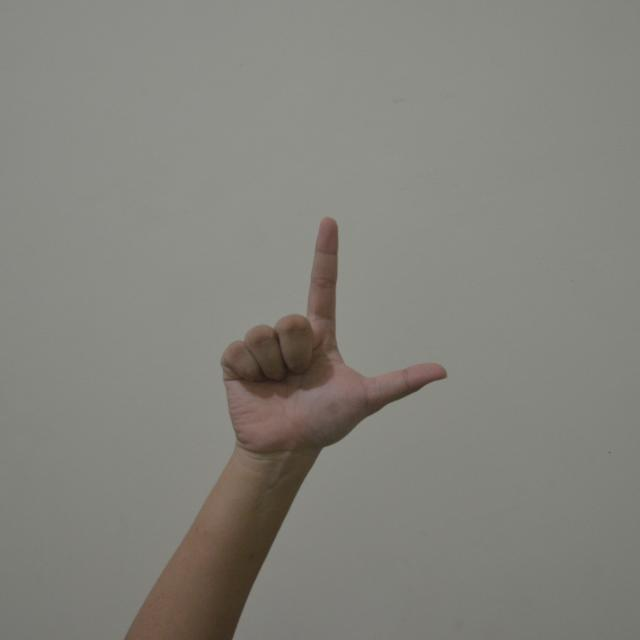L: (212, 205, 456, 474)
